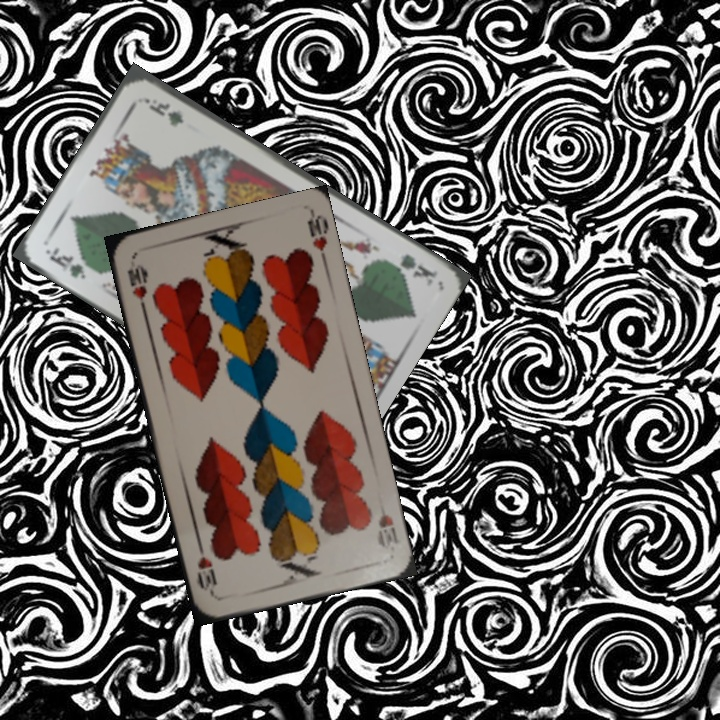GK: (43, 243, 89, 282), (396, 249, 440, 289)
H10: (373, 500, 402, 552), (123, 260, 150, 314)
